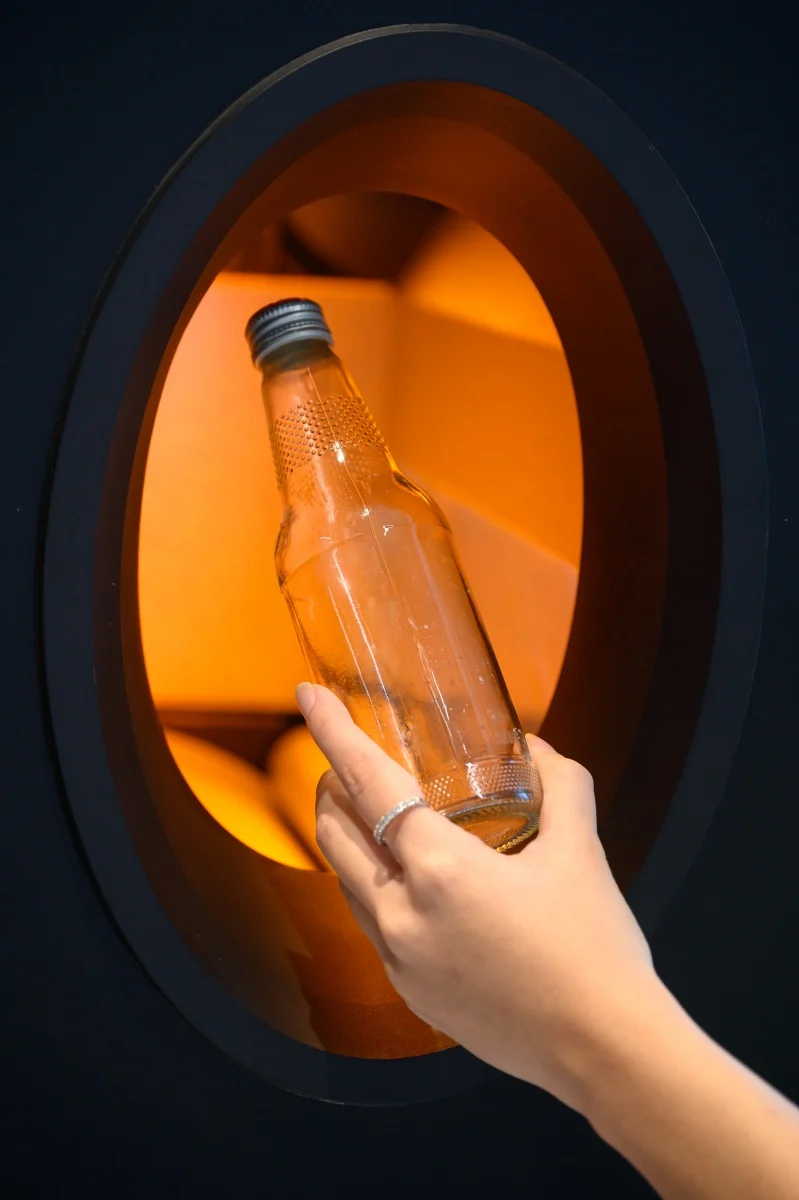glass_bottle: (228, 289, 554, 854)
